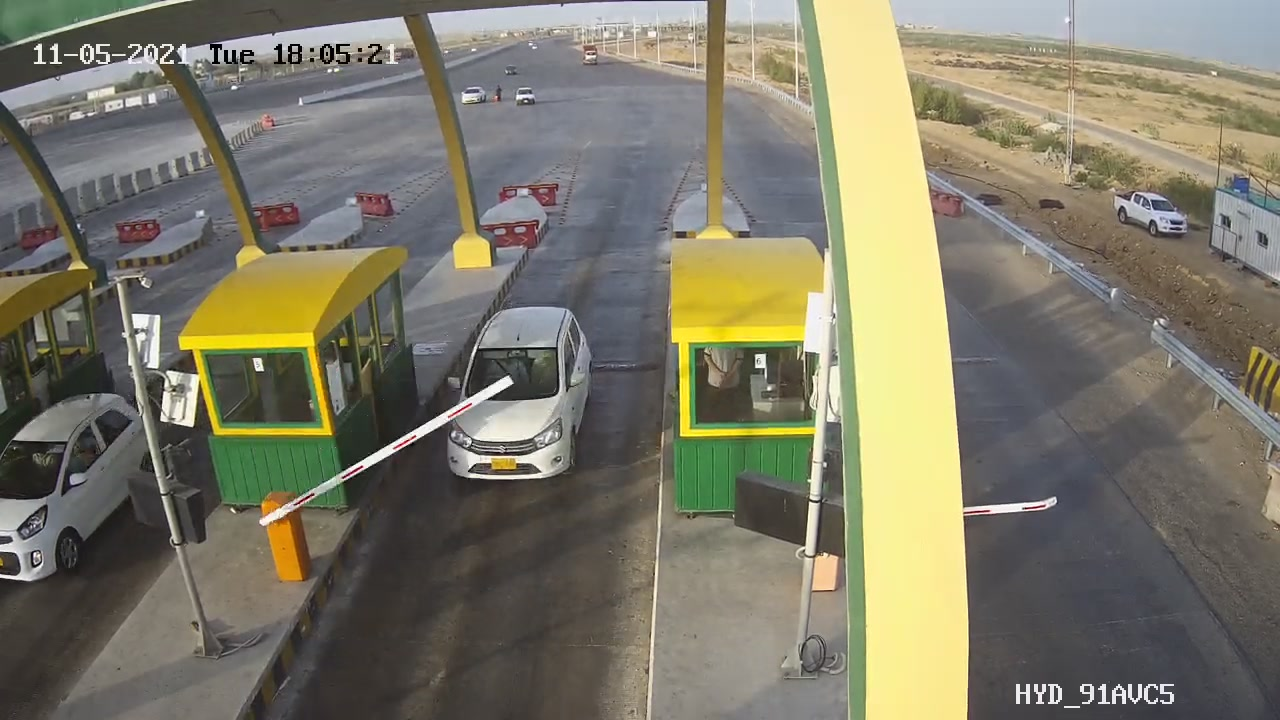F1: (427, 283, 612, 505)
